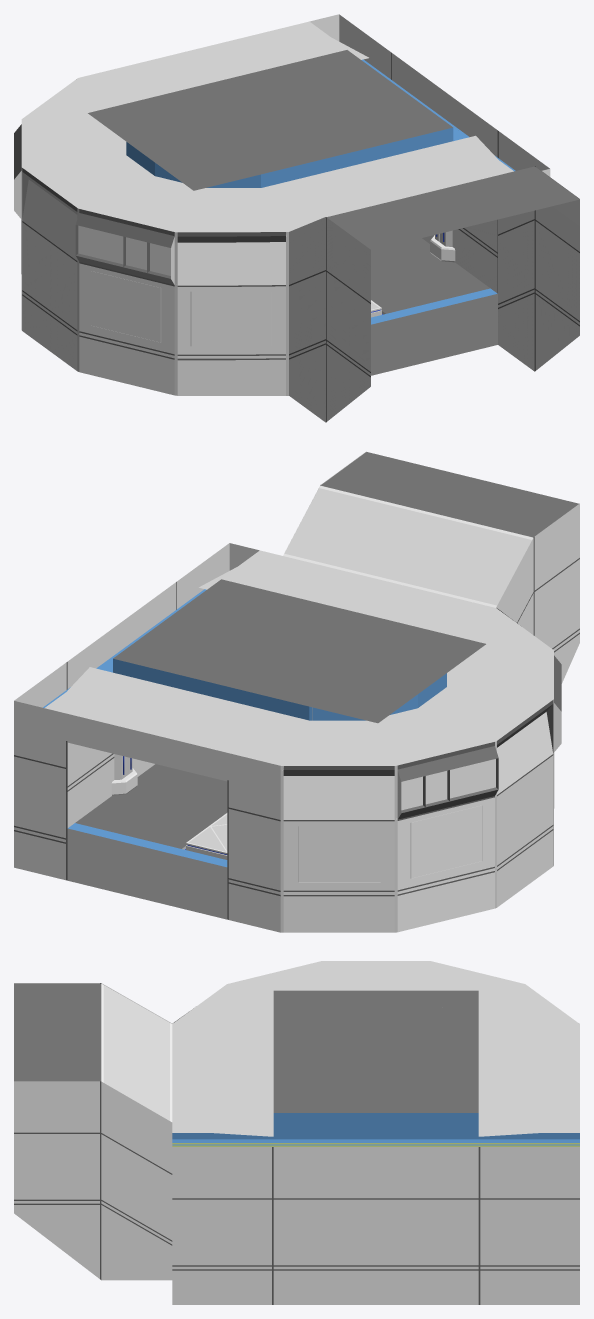
The model's file is ControlRoom.fbx.
The picture shows the model from 3 angles, top to bottom: view 1: azimuth 30°, elevation 25°; view 2: azimuth 150°, elevation 25°; view 3: azimuth 270°, elevation 25°; orthographic projection. The views are drawn at different scales.
Parts seen in each view (by area): view 1: Control_Walls, Control_Ceiling, Control_Floor, Control_Wires; view 2: Control_Ceiling, Control_Walls, Control_Floor, Control_Wires; view 3: Control_Walls, Control_Ceiling, Control_WallUnit.
Boxes of the visible parts, x1=… form: Control_Walls: x1=14, y1=14, x2=579, y2=422; Control_Ceiling: x1=21, y1=21, x2=579, y2=250; Control_Floor: x1=176, y1=238, x2=497, y2=395; Control_Wires: x1=430, y1=230, x2=455, y2=262; Control_Ceiling: x1=44, y1=452, x2=578, y2=770; Control_Walls: x1=14, y1=451, x2=579, y2=932; Control_Floor: x1=66, y1=764, x2=228, y2=919; Control_Wires: x1=111, y1=754, x2=137, y2=795; Control_Walls: x1=14, y1=983, x2=579, y2=1304; Control_Ceiling: x1=14, y1=961, x2=579, y2=1136; Control_WallUnit: x1=172, y1=1113, x2=579, y2=1146.
Size of the model in its own units: 15.32 by 7.64 by 19.44.
